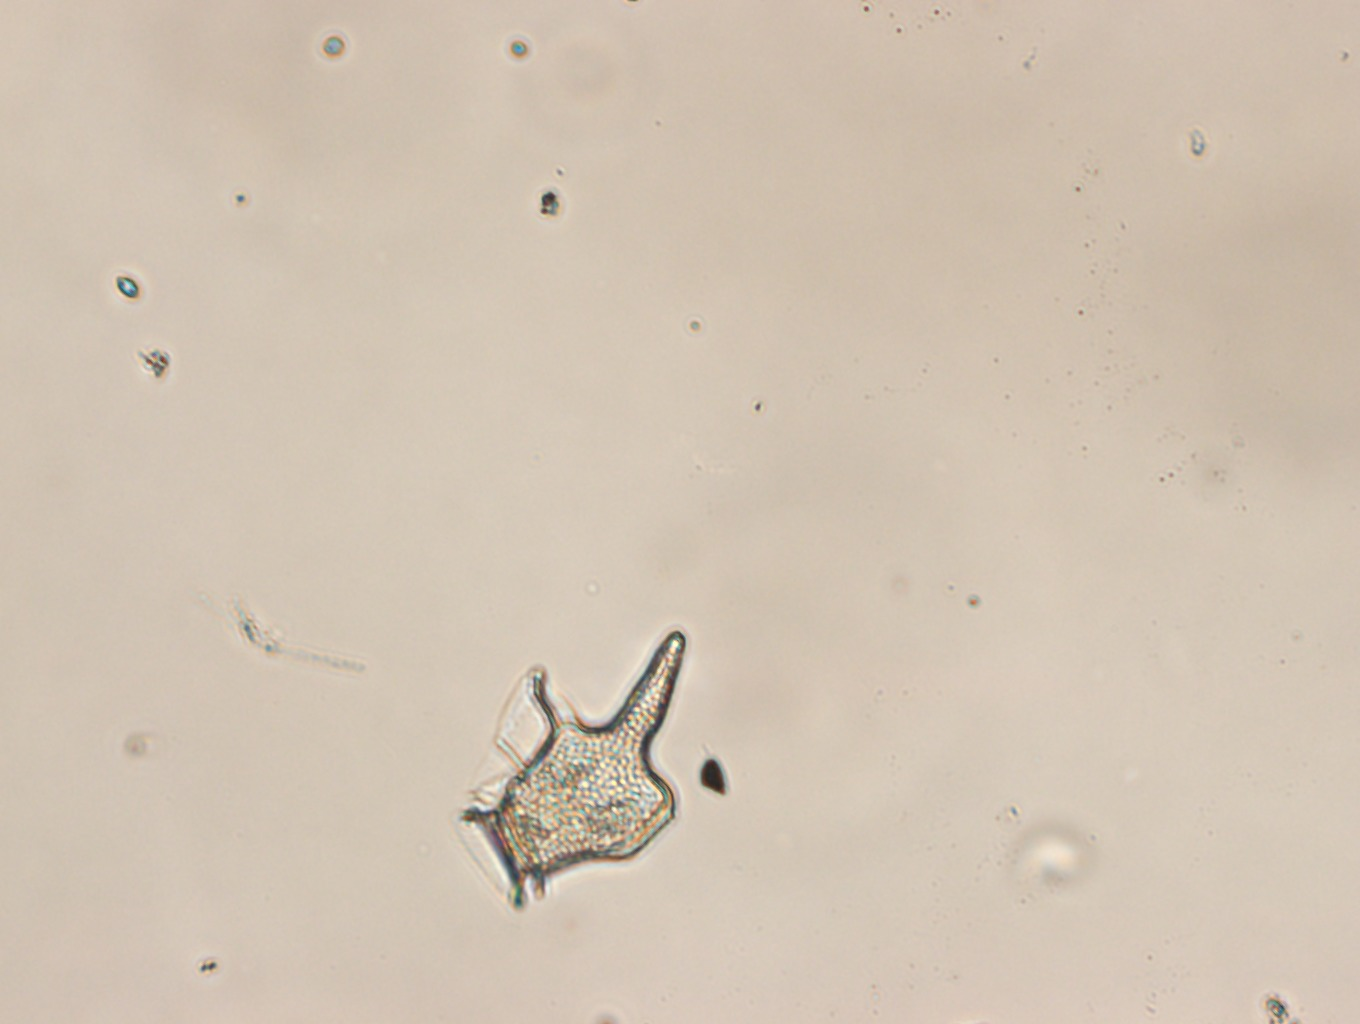dinophysis caudata: (446, 629, 689, 912)
